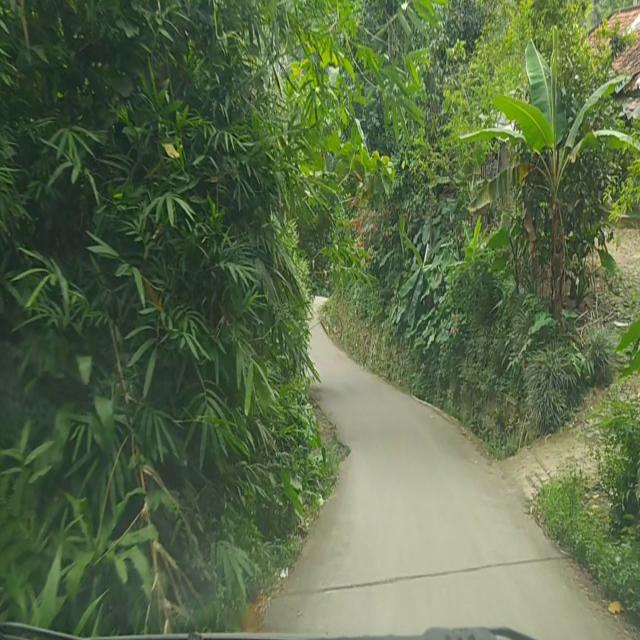Sewer Cover: (292, 551, 556, 593)
